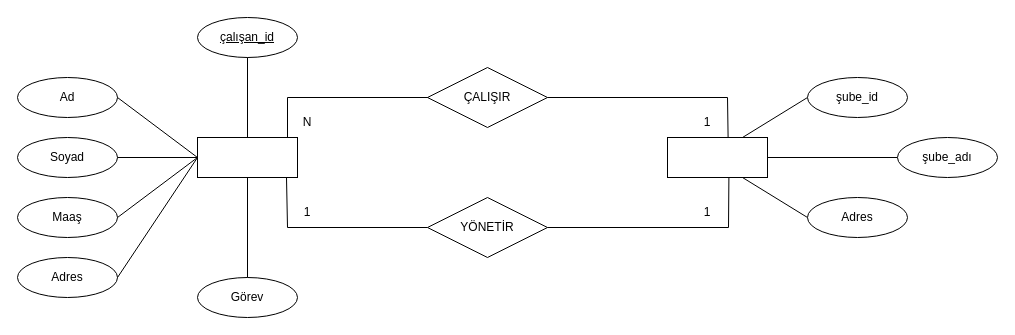
The diagram is 1015 pixels wide and 335 high, and some of its shapes have lost their labels. The centre of each missing label's shape, as x and y in pixels:
"çalışan" belongs at pixel 247 157.
"ŞUBE" belongs at pixel 717 157.
